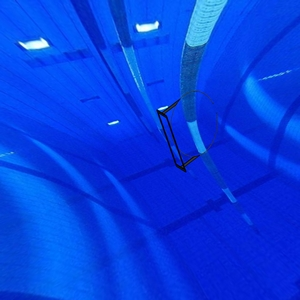circle: (154, 89, 222, 175)
